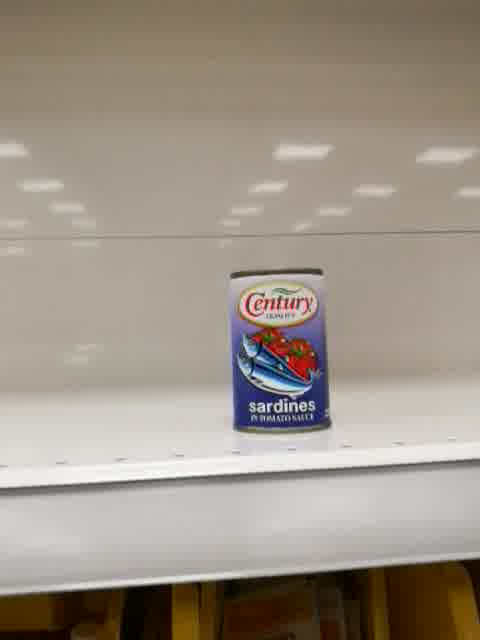sardine: (227, 266, 332, 436)
